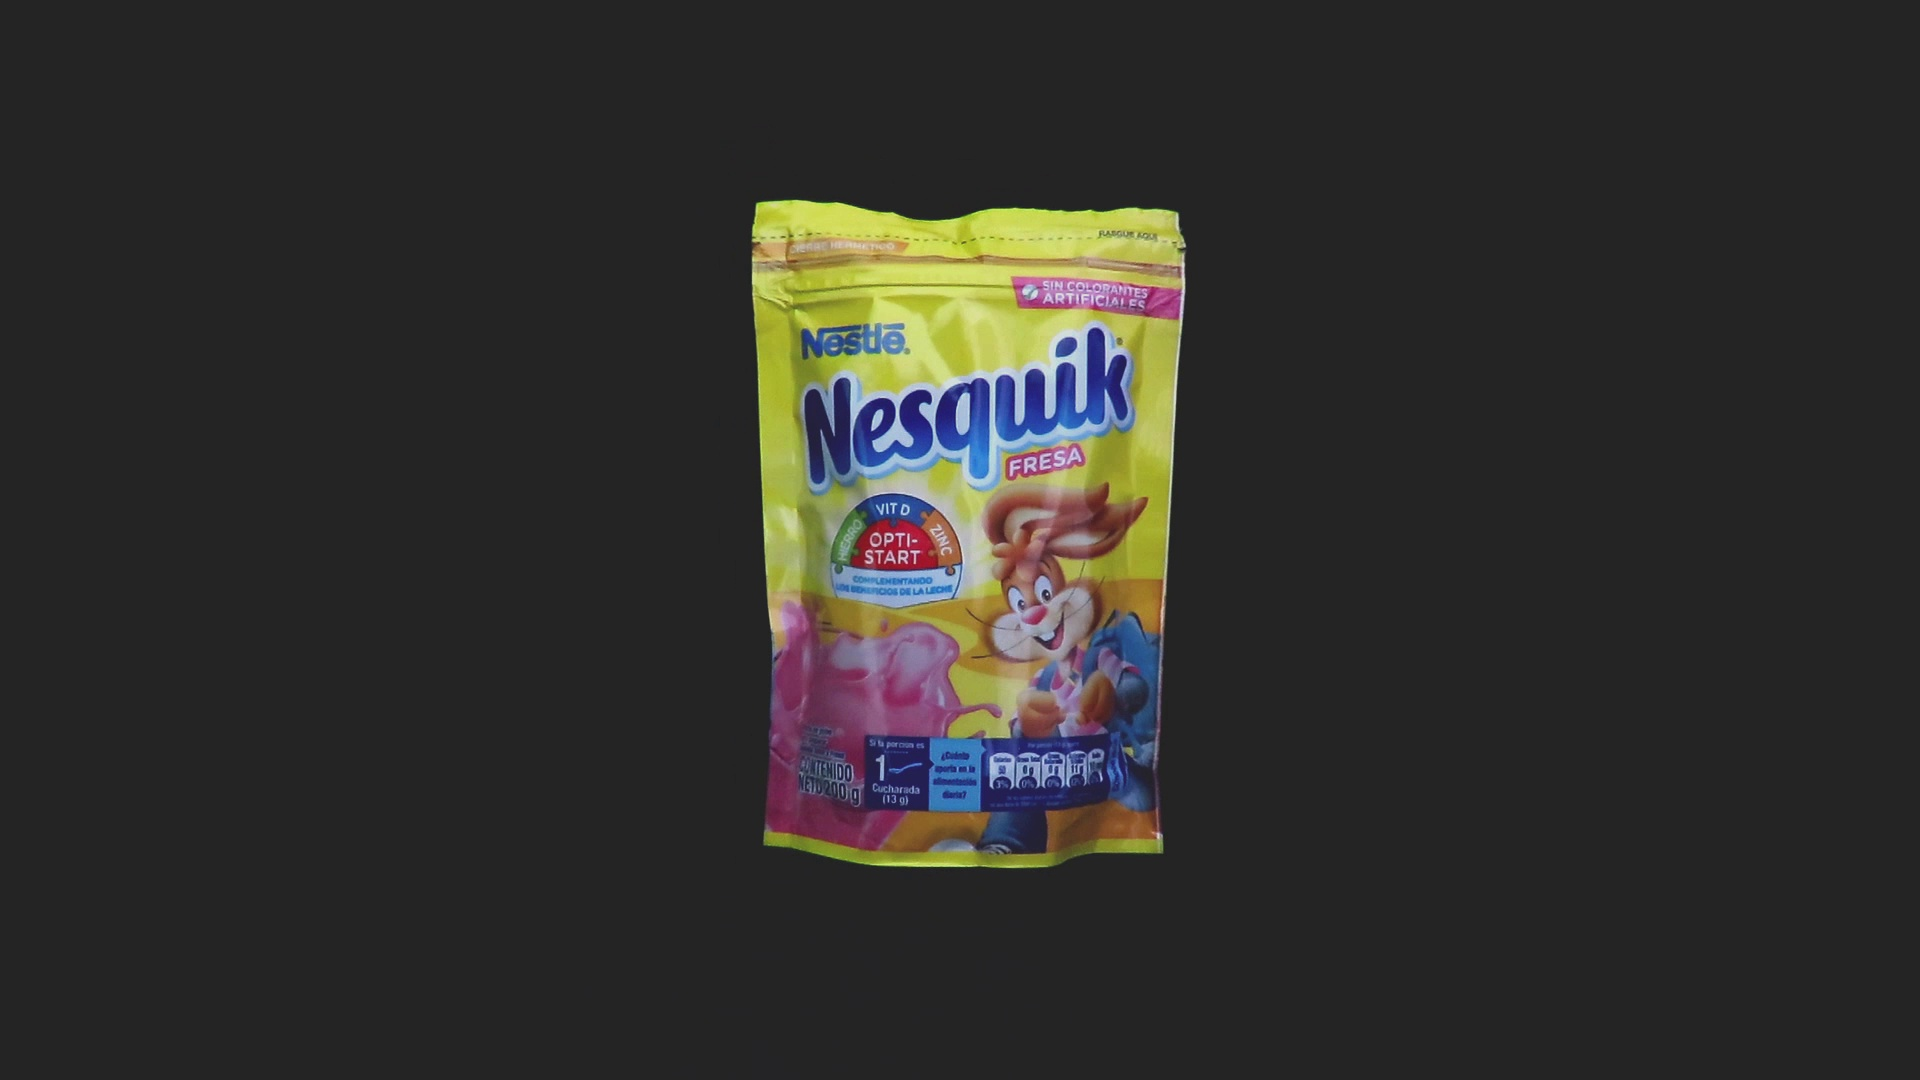COL0170305DYP20000: (746, 194, 1192, 876)
